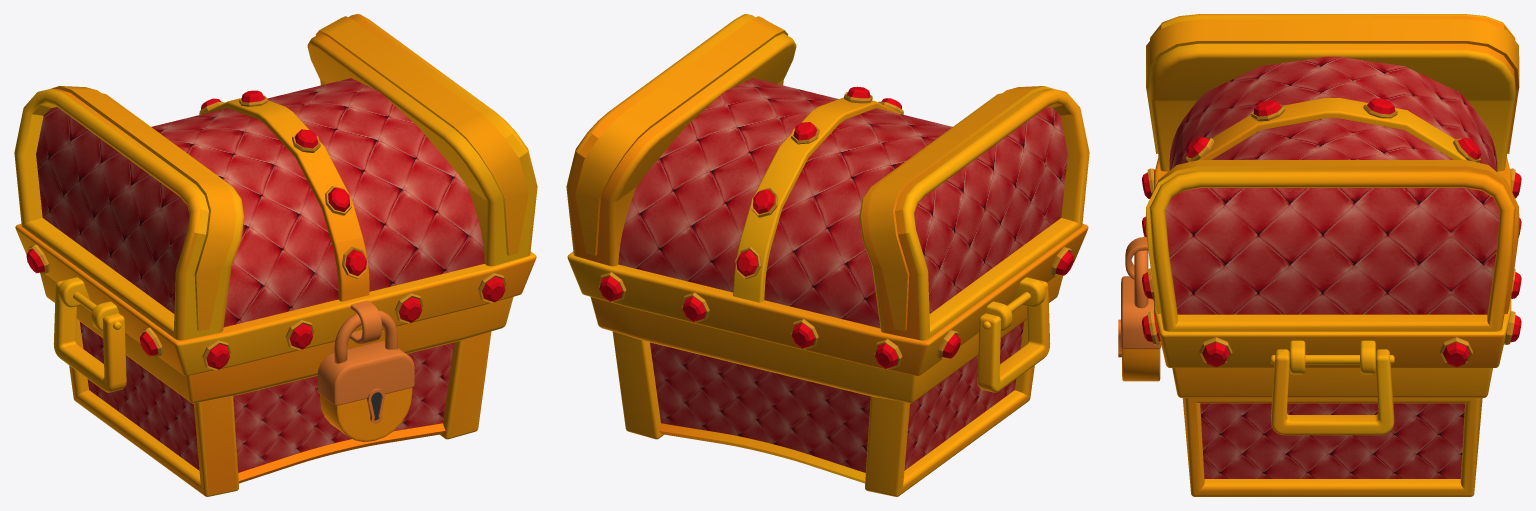
The model's file is sandik.fbx.
3 renders of one model, left to right at view 1: azimuth 30°, elevation 25°; view 2: azimuth 150°, elevation 25°; view 3: azimuth 270°, elevation 25°, orthographic. The views are drawn at different scales.
Parts seen in each view (by area): view 1: sandikkapak, sandikalt, kilit, kilitust; view 2: sandikkapak, sandikalt; view 3: sandikkapak, sandikalt, kilit, kilitust.
Part boxes in pixels (box(x1,y1,x2,y2)): sandikkapak: box(14, 14, 537, 392); sandikalt: box(40, 272, 513, 496); kilit: box(317, 341, 414, 441); kilitust: box(334, 310, 397, 363); sandikkapak: box(566, 14, 1089, 392); sandikalt: box(590, 275, 1062, 496); sandikkapak: box(1125, 14, 1521, 435); sandikalt: box(1172, 368, 1492, 496); kilit: box(1118, 276, 1161, 381); kilitust: box(1134, 250, 1148, 308).
Size of the model in its own units: 202 by 152 by 166.
Materials: 6 (2 with a texture image).
